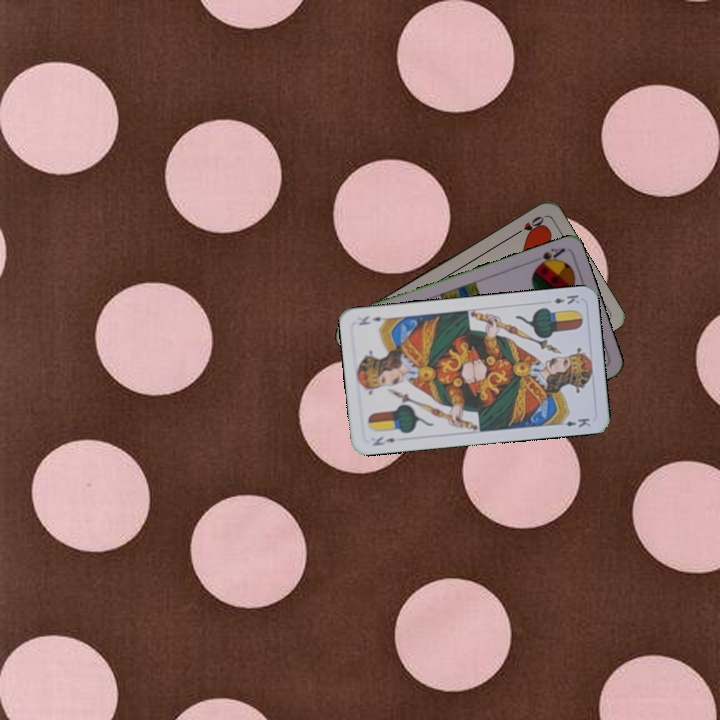EK: (550, 291, 582, 307), (369, 432, 397, 449)
HO: (510, 212, 547, 238)
SA: (531, 244, 567, 271)
